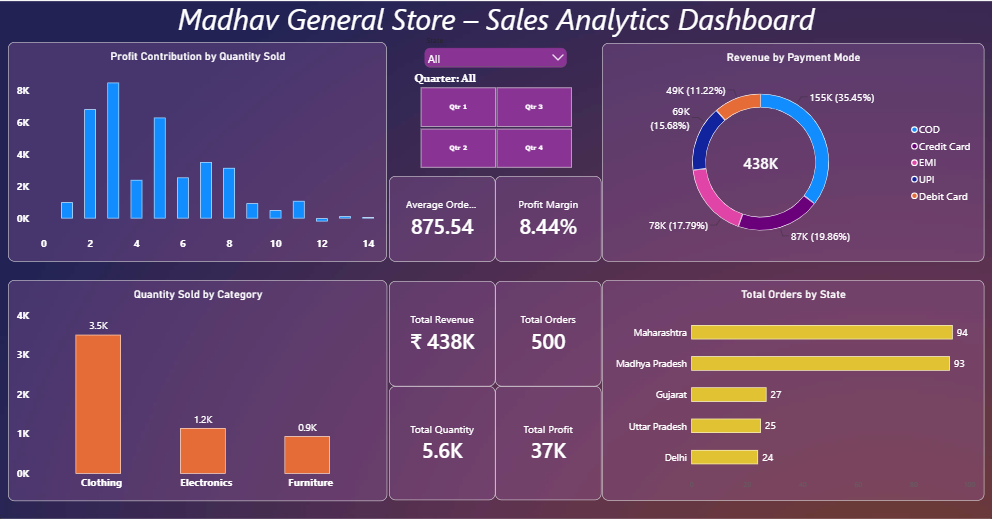

This screenshot's page, from the dashboard's own definition file:
{"tool":"powerbi","page":{"name":"Page 1","canvas":[1920,1080],"ordinal":0},"visuals":[{"type":"columnChart","title":"Profit Contribution by Quantity Sold","fields":{"Category":["Details.Quantity"],"Y":["Sum(Details.Profit)"]},"box":[14.9,114.8,733.5,425.2],"z":0},{"type":"textbox","box":[0,30.2,1920.2,86.4],"z":1000},{"type":"columnChart","title":"Quantity Sold by Category","fields":{"Category":["Details.Category"],"Y":["Sum(Details.Quantity)"]},"box":[14.9,574,734.4,427.7],"z":2000},{"type":"donutChart","title":"Revenue by Payment Mode","fields":{"Category":["Details.PaymentMode"],"Y":["Sum(Details.Amount)"]},"box":[1165,116.9,739.8,423.1],"z":3000},{"type":"clusteredBarChart","title":"Total Orders by State","fields":{"Category":["Orders.State"],"Y":["Details.Total Orders"]},"box":[1165,574,739.8,427.3],"z":4000},{"type":"cardVisual","fields":{"Data":["Details.Total Profit"]},"box":[958.8,780.2,206.2,221.1],"z":4001},{"type":"cardVisual","fields":{"Data":["Details.Total Orders"]},"box":[958.8,576.1,206.2,204.1],"z":4002},{"type":"cardVisual","title":"Total Revenue","fields":{"Data":["Details.Total Revenue"]},"box":[752.6,576.1,206.2,204.1],"z":4003},{"type":"cardVisual","fields":{"Data":["Details.Total Quantity"]},"box":[752.6,780.2,206.2,221.1],"z":4004},{"type":"slicer","fields":{"Values":["Orders.Order Date.Variation.Date Hierarchy.Quarter"]},"box":[793,172.2,331.7,187.1],"z":4005},{"type":"slicer","fields":{"Values":["Orders.State"]},"box":[816.4,102,284.9,85],"z":4006},{"type":"cardVisual","fields":{"Data":["Details.Average Order Value"]},"box":[752.6,374.2,206.2,165.8],"z":4007},{"type":"cardVisual","fields":{"Data":["Details.Profit Margin"]},"box":[958.8,374.2,206.2,165.8],"z":4008}]}

Visuals, with their boxes in screenshot pixels (x1, y1, x2, y2):
"Profit Contribution by Quantity Sold" columnChart: bbox=(13, 25, 387, 242)
textbox: bbox=(5, 0, 984, 26)
"Quantity Sold by Category" columnChart: bbox=(13, 259, 387, 477)
"Revenue by Payment Mode" donutChart: bbox=(599, 26, 976, 242)
"Total Orders by State" clusteredBarChart: bbox=(599, 259, 976, 477)
cardVisual - Details.Total Profit: bbox=(494, 364, 599, 477)
cardVisual - Details.Total Orders: bbox=(494, 260, 599, 364)
"Total Revenue" cardVisual: bbox=(389, 260, 494, 364)
cardVisual - Details.Total Quantity: bbox=(389, 364, 494, 477)
slicer - Orders.Order Date.Variation.Date Hierarchy.Quarter: bbox=(409, 54, 578, 150)
slicer - Orders.State: bbox=(421, 18, 566, 62)
cardVisual - Details.Average Order Value: bbox=(389, 157, 494, 242)
cardVisual - Details.Profit Margin: bbox=(494, 157, 599, 242)
